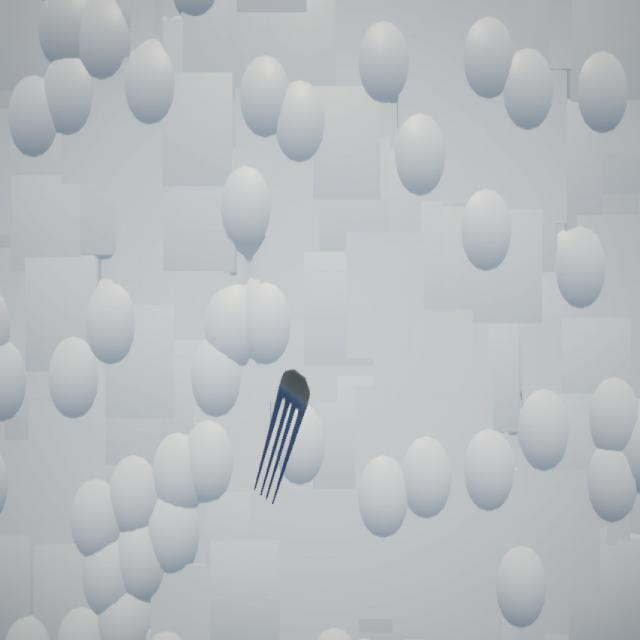top_folk: (254, 370, 311, 506)
